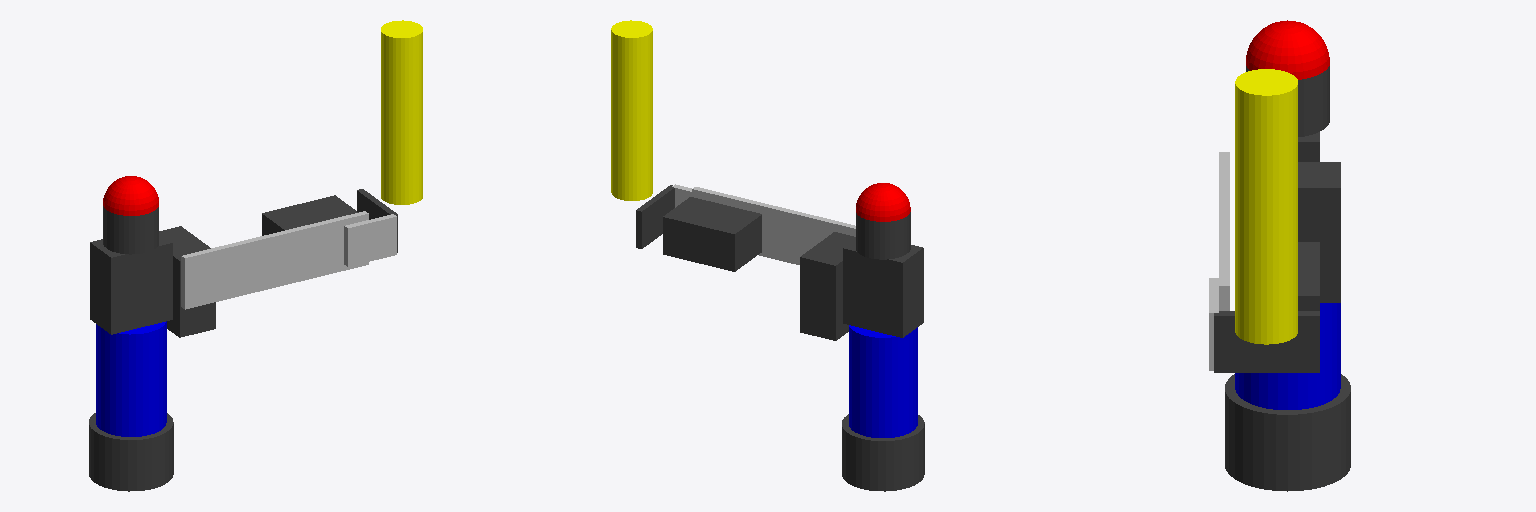
The robot description file, URDF, robot "gorosuke_arm":
<?xml version="1.0" ?>
<robot name="gorosuke_arm">
  <material name="Silver">
    <color rgba="0.753 0.753 0.753 1.0"/>
  </material>
  <material name="red">
    <color rgba="1 0 0 1"/>
  </material>
  <material name="blue">
    <color rgba="0 0 1 1"/>
  </material>
  <material name="yellow">
    <color rgba="1 1 0 1"/>
  </material>
  <material name="black">
    <color rgba="0.3 0.3 0.3 1"/>
  </material>
  <material name="silver">
    <color rgba="0.8 0.8 0.8 1"/>
  </material>
  <link name="base_link">
    <visual>
      <origin rpy="0 0 0" xyz="0 0 0.020"/>
      <geometry>
        <cylinder length="0.040" radius="0.030"/>
      </geometry>
      <material name="black" />
    </visual>
  </link>
  <link name="pole_link">
    <visual>
      <origin rpy="0 0 0" xyz="0 0 0.040"/>
      <geometry>
        <cylinder length="0.080" radius="0.025"/>
      </geometry>
      <material name="blue" />
    </visual>
  </link>
  <joint name="joint4" type="revolute">
    <origin rpy="0 0 0" xyz="0 0 0.040"/>
    <parent link="base_link"/>
    <child link="pole_link"/>
    <axis xyz="0 0 1"/>
    <limit effort="100" lower="-2.4435" upper="2.4435" velocity="3.1415"/>
  </joint>
  <link name="sholder_link">
    <visual>
      <origin rpy="0 0 0" xyz="0 0 0.030"/>
      <geometry>
        <box size="0.050 0.030 0.060"/>
      </geometry>
      <material name="black" />
    </visual>
  </link>
  <joint name="fixedjoint1" type="fixed">
    <origin rpy="0 0 0" xyz="0 0 0.080"/>
    <parent link="pole_link"/>
    <child link="sholder_link"/>
    <axis xyz="1 0 0"/>
  </joint>
  <link name="sholder_pitch_link">
    <visual>
      <origin rpy="0 0 0" xyz="0.040 0 -0.015"/>
      <geometry>
        <box size="0.030 0.050 0.060"/>
      </geometry>
      <material name="black" />
    </visual>
  </link>
  <joint name="joint1" type="revolute">
    <origin rpy="0 0 0" xyz="0 0 0.035"/>
    <parent link="sholder_link"/>
    <child link="sholder_pitch_link"/>
    <axis xyz="1 0 0"/>
    <limit effort="100" lower="-2.4435" upper="2.4435" velocity="3.1415"/>
  </joint>
  <link name="arm1_link">
    <visual>
      <origin rpy="0 0 0" xyz="0.060 0 0"/>
      <geometry>
        <box size="0.150 0.005 0.040"/>
      </geometry>
      <material name="silver" />
    </visual>
  </link>
  <joint name="joint2" type="revolute">
    <origin rpy="0 0 0" xyz="0.040 -0.030 0"/>
    <parent link="sholder_pitch_link"/>
    <child link="arm1_link"/>
    <axis xyz="0 -1 0"/>
    <limit effort="100" lower="-2.4435" upper="2.4435" velocity="3.1415"/>
  </joint>
  <link name="knee_link">
    <visual>
      <origin rpy="0 0 0" xyz="0 0.025 0"/>
      <geometry>
        <box size="0.060 0.040 0.030"/>
      </geometry>
      <material name="black" />
    </visual>
  </link>
  <joint name="fixedjoint2" type="fixed">
    <origin rpy="0 0 0" xyz="0.105 0 0"/>
    <parent link="arm1_link"/>
    <child link="knee_link"/>
    <axis xyz="1 0 0"/>
  </joint>
  <link name="arm21_link">
    <visual>
      <origin rpy="0 0 0" xyz="0.005 0 0"/>
      <geometry>
        <box size="0.040 0.005 0.030"/>
      </geometry>
      <material name="silver" />
    </visual>
  </link>
  <joint name="joint3" type="revolute">
    <origin rpy="0 0 0" xyz="0.130 -0.005 0"/>
    <parent link="arm1_link"/>
    <child link="arm21_link"/>
    <axis xyz="0 -1 0"/>
    <limit effort="100" lower="-2.4435" upper="2.4435" velocity="3.1415"/>
  </joint>
  <link name="arm22_link">
    <visual>
      <origin rpy="0 0 0" xyz="0 0.025 0"/>
      <geometry>
        <box size="0.005 0.050 0.030"/>
      </geometry>
      <material name="black" />
    </visual>
  </link>
  <joint name="fixedjoint3" type="fixed">
    <origin rpy="0 0 0" xyz="0.025 0 0"/>
    <parent link="arm21_link"/>
    <child link="arm22_link"/>
    <axis xyz="1 0 0"/>
  </joint>
  <link name="arm23_link">
    <visual>
      <origin rpy="0 0 0" xyz="0.020 0.025 0.080"/>
      <geometry>
        <cylinder length="0.130" radius="0.015"/>
      </geometry>
      <material name="yellow" />
    </visual>
  </link>
  <joint name="fixedjoint4" type="fixed">
    <origin rpy="0 0 0" xyz="0 0 0"/>
    <parent link="arm22_link"/>
    <child link="arm23_link"/>
    <axis xyz="1 0 0"/>
  </joint>
  <link name="neck_link">
    <visual>
      <origin rpy="0 0 0" xyz="0 0 0.015"/>
      <geometry>
        <cylinder length="0.030" radius="0.020"/>
      </geometry>
      <material name="black" />
    </visual>
  </link>
  <joint name="fixedjoint5" type="fixed">
    <origin rpy="0 0 0" xyz="0 0 0.060"/>
    <parent link="sholder_link"/>
    <child link="neck_link"/>
    <axis xyz="1 0 0"/>
  </joint>
  <link name="head_link">
    <visual>
      <origin rpy="0 0 0" xyz="0 0 0"/>
      <geometry>
        <sphere radius="0.020"/>
      </geometry>
      <material name="red" />
    </visual>
  </link>
  <joint name="fixedjoint6" type="fixed">
    <origin rpy="0 0 0" xyz="0 0 0.030"/>
    <parent link="neck_link"/>
    <child link="head_link"/>
    <axis xyz="1 0 0"/>
  </joint>
</robot>

--- What the picture shows (computed from the rendered views, not written in the file) ---
Views: 3 orthographic renders of the robot side by side, from view 1: azimuth 30°, elevation 25°; view 2: azimuth 150°, elevation 25°; view 3: azimuth 270°, elevation 25°.
Robot: gorosuke_arm — 11 links, 10 joints (4 revolute, 6 fixed); root link base_link; default pose: every joint at zero.
Links seen in each view (by area): view 1: arm1_link, arm23_link, pole_link, sholder_link, base_link, sholder_pitch_link, arm21_link, neck_link, knee_link, head_link, arm22_link; view 2: arm23_link, pole_link, sholder_link, knee_link, base_link, sholder_pitch_link, arm1_link, neck_link, head_link, arm22_link; view 3: arm23_link, base_link, pole_link, sholder_pitch_link, arm22_link, head_link, neck_link, arm1_link, knee_link, arm21_link, sholder_link.
Link boxes in pixels (x1,y1,x2,y2): arm1_link: (181,211,368,309); arm23_link: (381,20,422,204); pole_link: (96,321,166,436); sholder_link: (90,233,172,334); base_link: (89,413,173,491); sholder_pitch_link: (159,226,215,337); arm21_link: (344,214,396,266); neck_link: (103,206,158,254); knee_link: (262,195,358,235); head_link: (103,176,158,215); arm22_link: (357,189,397,252); arm23_link: (611,20,652,200); pole_link: (849,325,917,437); sholder_link: (843,239,923,337); knee_link: (663,197,761,271); base_link: (842,414,924,491); sholder_pitch_link: (800,232,855,340); arm1_link: (692,187,855,264); neck_link: (856,212,910,259); head_link: (856,183,910,221); arm22_link: (636,185,674,248); arm23_link: (1235,69,1297,344); base_link: (1225,374,1350,491); pole_link: (1235,303,1340,409); sholder_pitch_link: (1298,162,1340,302); arm22_link: (1214,311,1319,372); head_link: (1246,20,1329,79); neck_link: (1246,66,1329,136); arm1_link: (1219,152,1229,310); knee_link: (1298,242,1319,310); arm21_link: (1209,278,1218,370); sholder_link: (1298,132,1319,161).
Bounding box of the posed robot: 0.26 × 0.0675 × 0.3 m (x, y, z).
Geometry: primitives only (box / cylinder / sphere), no mesh files.
